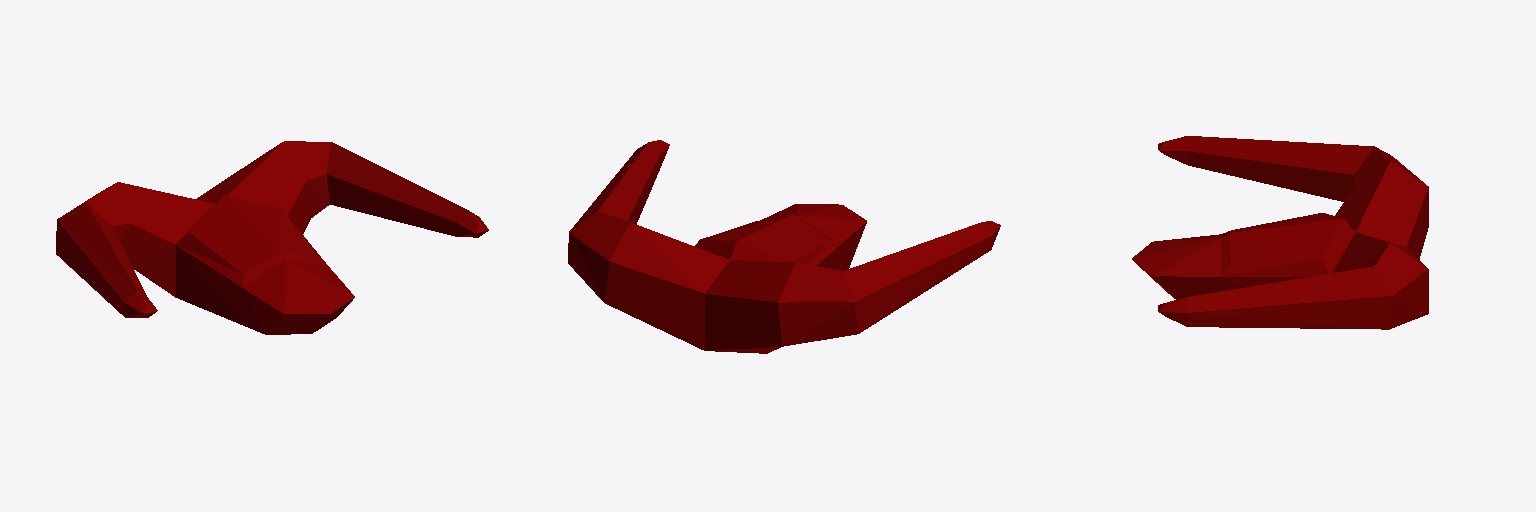
File: enemy_ship.obj
3 views of the same model, side by side, from view 1: azimuth 30°, elevation 25°; view 2: azimuth 150°, elevation 25°; view 3: azimuth 270°, elevation 25° (orthographic).
Parts seen in each view (by area): view 1: Box014; view 2: Box014; view 3: Box014.
Part boxes in pixels (x1,y1,x2,y2): Box014: (56, 141, 488, 334); Box014: (568, 140, 1000, 353); Box014: (1132, 136, 1428, 329).
Bounding box in the file's own units: 35.01 × 10.2 × 25.47.